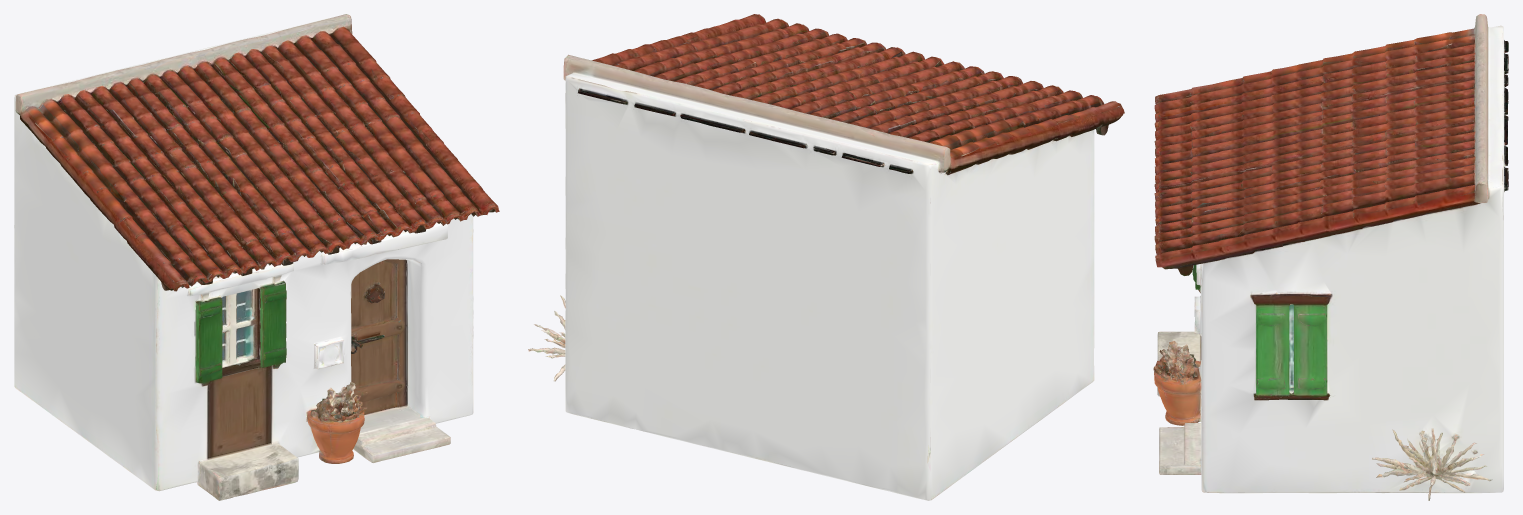
The model's file is house-iberian-village-opt.glb.
The picture shows the model from 3 angles, left to right: view 1: azimuth 30°, elevation 25°; view 2: azimuth 150°, elevation 25°; view 3: azimuth 270°, elevation 25°; orthographic projection. The views are drawn at different scales.
Parts seen in each view (by area): view 1: Mesh_0; view 2: Mesh_0; view 3: Mesh_0.
Part boxes in pixels (x1,y1,x2,y2): Mesh_0: (14, 14, 499, 500); Mesh_0: (528, 14, 1124, 500); Mesh_0: (1153, 14, 1508, 500).
Bounding box in the file's own units: 1.91 × 1.44 × 1.45.
1 material, 1 textured.
